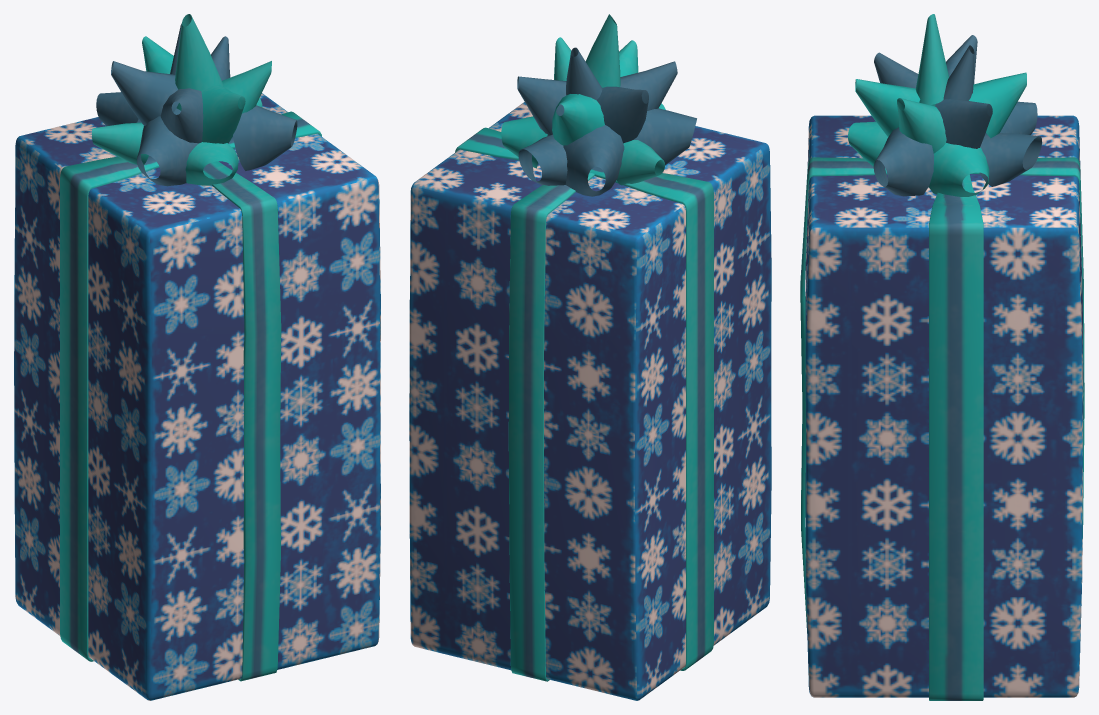
Rendered from Gift0102.gltf.
3 views of the same model, side by side, from view 1: azimuth 30°, elevation 25°; view 2: azimuth 150°, elevation 25°; view 3: azimuth 270°, elevation 25° (orthographic).
Visible parts, largest first — view 1: Present; view 2: Present; view 3: Present.
Part boxes in pixels (x1,y1,x2,y2): Present: [14, 14, 380, 700]; Present: [409, 14, 771, 700]; Present: [800, 14, 1084, 700].
Size of the model in its own units: 0.0676 by 0.1705 by 0.0703.
1 material, 1 textured.
